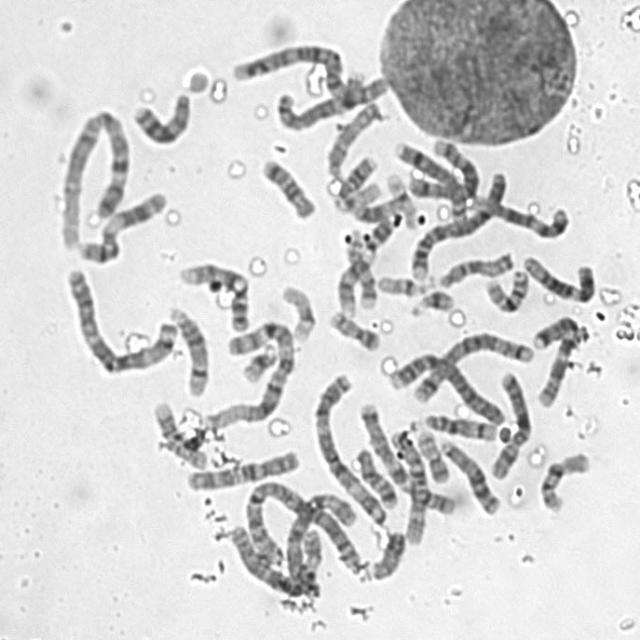A1: (53, 101, 133, 252), (199, 312, 298, 430)
A2: (238, 476, 362, 574), (225, 37, 378, 103)
A3: (307, 363, 394, 528), (58, 260, 179, 376)
B4: (404, 162, 511, 284), (384, 345, 508, 427)
B5: (405, 324, 537, 405), (402, 133, 482, 202)
C10: (180, 442, 302, 493), (384, 423, 431, 546)
C11: (72, 182, 170, 266), (332, 153, 403, 229)
C12: (465, 185, 572, 240), (517, 248, 597, 304)
C6: (224, 518, 325, 597), (280, 486, 358, 588)
C7: (359, 404, 456, 520), (527, 307, 588, 410)
C8: (270, 68, 384, 133), (388, 133, 470, 223)
C9: (331, 212, 395, 317), (172, 254, 252, 332)
D13: (433, 432, 502, 517), (126, 84, 193, 146)
D14: (162, 297, 212, 399), (418, 407, 498, 442)
D15: (319, 94, 383, 186), (432, 244, 516, 289)
E16: (534, 445, 593, 514), (479, 261, 531, 314)
E17: (147, 394, 210, 471), (338, 234, 377, 312)
E18: (254, 150, 318, 220), (349, 441, 400, 510)
F19: (274, 278, 318, 343), (380, 166, 419, 230)
F20: (322, 303, 382, 352), (409, 420, 451, 484)
G21: (235, 335, 280, 385), (404, 283, 456, 318)
G22: (329, 175, 385, 213), (371, 268, 435, 297)
X: (483, 364, 534, 480)
Y: (361, 523, 408, 581)
